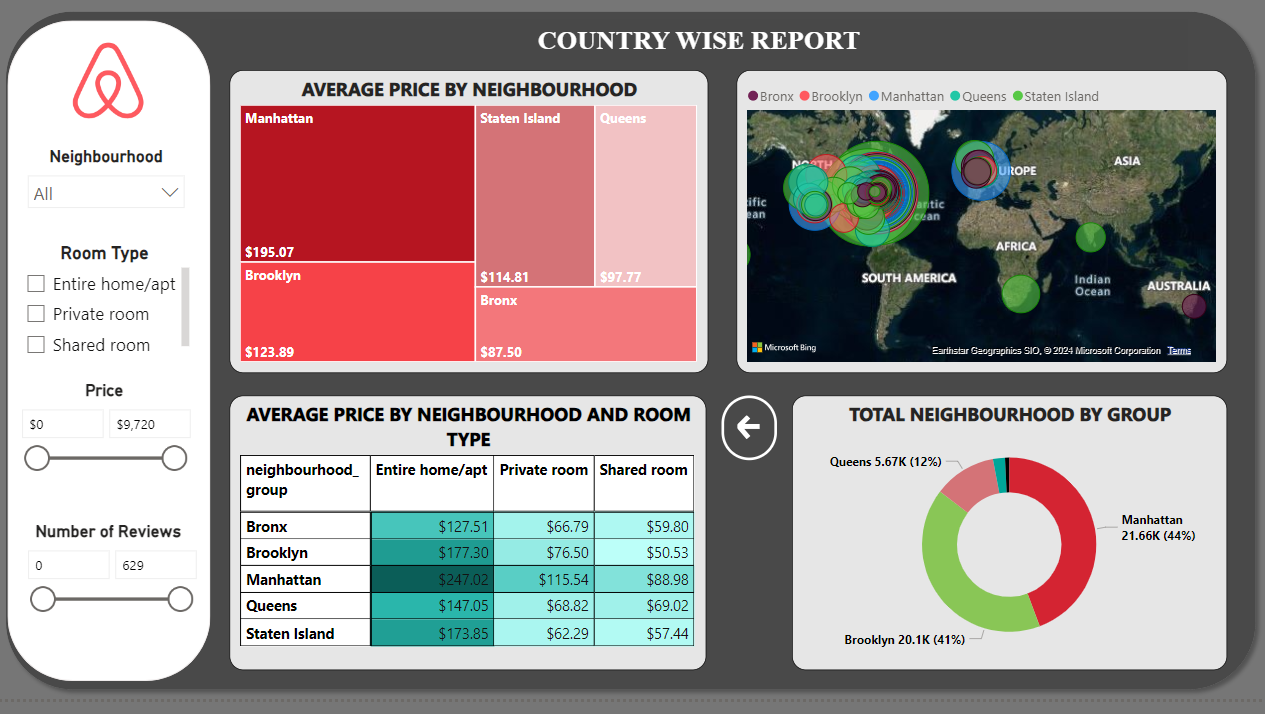

This screenshot's page, from the dashboard's own definition file:
{"tool":"powerbi","page":{"name":"Page 3","canvas":[1280,720],"ordinal":2},"visuals":[{"type":"shape","box":[0,16.7,1279.5,702.6],"z":0},{"type":"shape","box":[10.1,35,204.9,666.7],"z":1000,"group":"g1"},{"type":"treemap","title":"AVERAGE PRICE BY NEIGHBOURHOOD","fields":{"Group":["AB_NYC_2019.neighbourhood_group"],"Values":["Avg(AB_NYC_2019.price)"]},"box":[234.7,84.8,483,305.9],"z":1000},{"type":"image","box":[53.6,51.6,116.2,87.9],"z":2000,"group":"g1"},{"type":"pivotTable","title":"AVERAGE PRICE BY NEIGHBOURHOOD AND ROOM TYPE","fields":{"Values":["Avg(AB_NYC_2019.price)"],"Columns":["AB_NYC_2019.room_type"],"Rows":["AB_NYC_2019.neighbourhood_group"]},"box":[234.7,413.4,481.5,277.1],"z":2000},{"type":"map","fields":{"Size":["Avg(AB_NYC_2019.price)"],"Category":["AB_NYC_2019.neighbourhood"],"Series":["AB_NYC_2019.neighbourhood_group"]},"box":[746.5,84.8,495.1,305.9],"z":3000},{"type":"slicer","title":"Neighbourhood","fields":{"Values":["AB_NYC_2019.neighbourhood_group"]},"box":[21.3,162.1,177.8,84.8],"z":3000,"group":"g1"},{"type":"group","id":"g1","title":"Group 1","box":[10.1,35,204.9,666.7],"z":4000},{"type":"slicer","title":"Room Type","fields":{"Values":["AB_NYC_2019.room_type"]},"box":[18.1,258.6,181,121.3],"z":4000,"group":"g1"},{"type":"slicer","title":"Price","fields":{"Values":["AB_NYC_2019.price"]},"box":[11.7,398.9,192.2,100.9],"z":5000,"group":"g1"},{"type":"donutChart","title":"TOTAL NEIGHBOURHOOD BY GROUP","fields":{"Category":["AB_NYC_2019.neighbourhood_group"],"Y":["CountNonNull(AB_NYC_2019.neighbourhood)"]},"box":[746.5,413.4,439.1,277.1],"z":5000},{"type":"textbox","box":[215,33.3,987.3,51.5],"z":6000},{"type":"slicer","title":"Number of Reviews","fields":{"Values":["AB_NYC_2019.number_of_reviews"]},"box":[17.2,540,188.3,101.7],"z":6000,"group":"g1"},{"type":"actionButton","box":[1202.3,508.8,56,65.1],"z":7000}]}

Visuals, with their boxes in screenshot pixels (x1, y1, x2, y2), scaled from the page's 1280x720 canvas onto the 1265x714 screenshot:
shape: x1=0 y1=17 x2=1264 y2=713
shape: x1=10 y1=35 x2=212 y2=696
"AVERAGE PRICE BY NEIGHBOURHOOD" treemap: x1=232 y1=84 x2=709 y2=387
image: x1=53 y1=51 x2=168 y2=138
"AVERAGE PRICE BY NEIGHBOURHOOD AND ROOM TYPE" pivotTable: x1=232 y1=410 x2=708 y2=685
map - Avg(AB_NYC_2019.price) x AB_NYC_2019.neighbourhood: x1=738 y1=84 x2=1227 y2=387
"Neighbourhood" slicer: x1=21 y1=161 x2=197 y2=245
"Group 1" group: x1=10 y1=35 x2=212 y2=696
"Room Type" slicer: x1=18 y1=256 x2=197 y2=377
"Price" slicer: x1=12 y1=396 x2=202 y2=496
"TOTAL NEIGHBOURHOOD BY GROUP" donutChart: x1=738 y1=410 x2=1172 y2=685
textbox: x1=212 y1=33 x2=1188 y2=84
"Number of Reviews" slicer: x1=17 y1=536 x2=203 y2=636
actionButton: x1=1188 y1=505 x2=1244 y2=569
